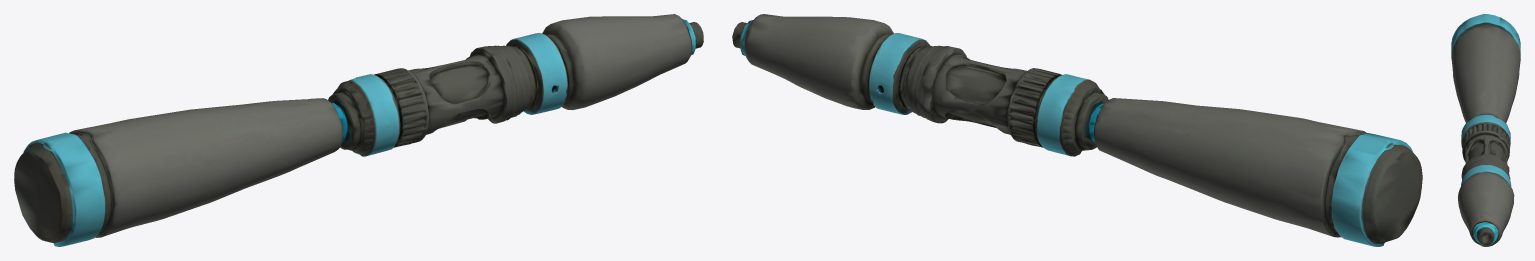
Rendered from gear-rod2.glb.
3 views of the same model, side by side, from view 1: azimuth 30°, elevation 25°; view 2: azimuth 150°, elevation 25°; view 3: azimuth 270°, elevation 25° (orthographic). The views are drawn at different scales.
Visible parts, largest first — view 1: tripo_node_4ed0b25c-98a4-465f-bad9-0afb8d706502; view 2: tripo_node_4ed0b25c-98a4-465f-bad9-0afb8d706502; view 3: tripo_node_4ed0b25c-98a4-465f-bad9-0afb8d706502.
Boxes of the visible parts, <box> form: tripo_node_4ed0b25c-98a4-465f-bad9-0afb8d706502: <box>14,14,703,246</box>; tripo_node_4ed0b25c-98a4-465f-bad9-0afb8d706502: <box>732,14,1422,246</box>; tripo_node_4ed0b25c-98a4-465f-bad9-0afb8d706502: <box>1451,14,1520,246</box>.
Bounding box in the file's own units: 1 × 0.146 × 0.1493.
1 material, 1 textured.
